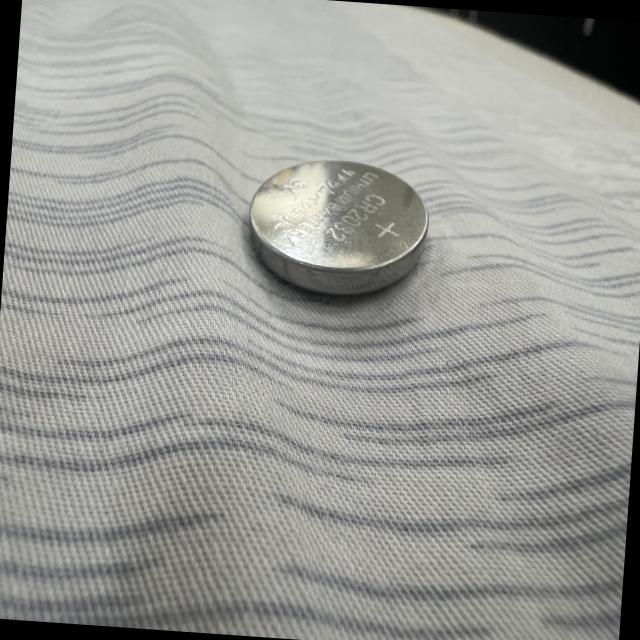COIN: (240, 151, 432, 303)
